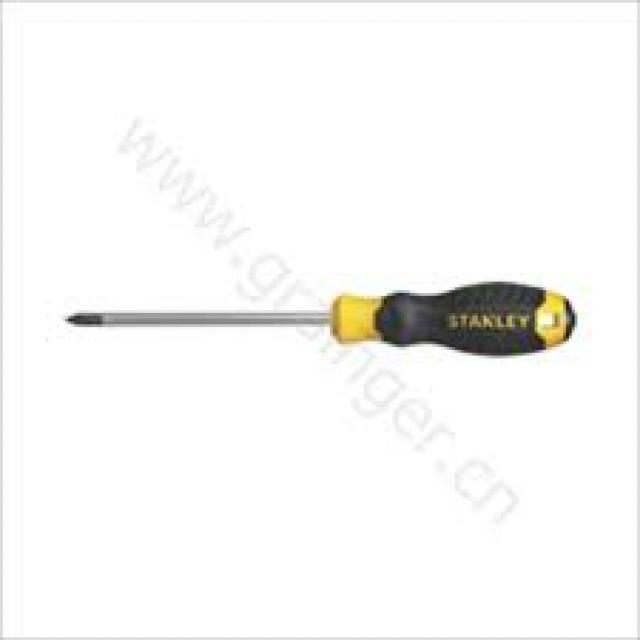screwdriver: (59, 280, 590, 357)
